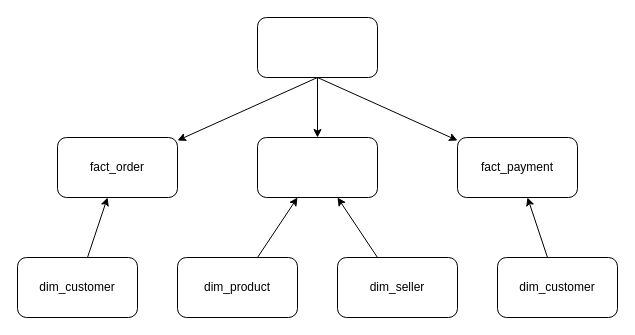
Image size: 635x335. Some labels were removed from this diagram. Here are the shapes that lost their labels. From the top down, the centre of each, then its label:
At (317,47): "dim_date".
At (317,167): "fact_order_item".
